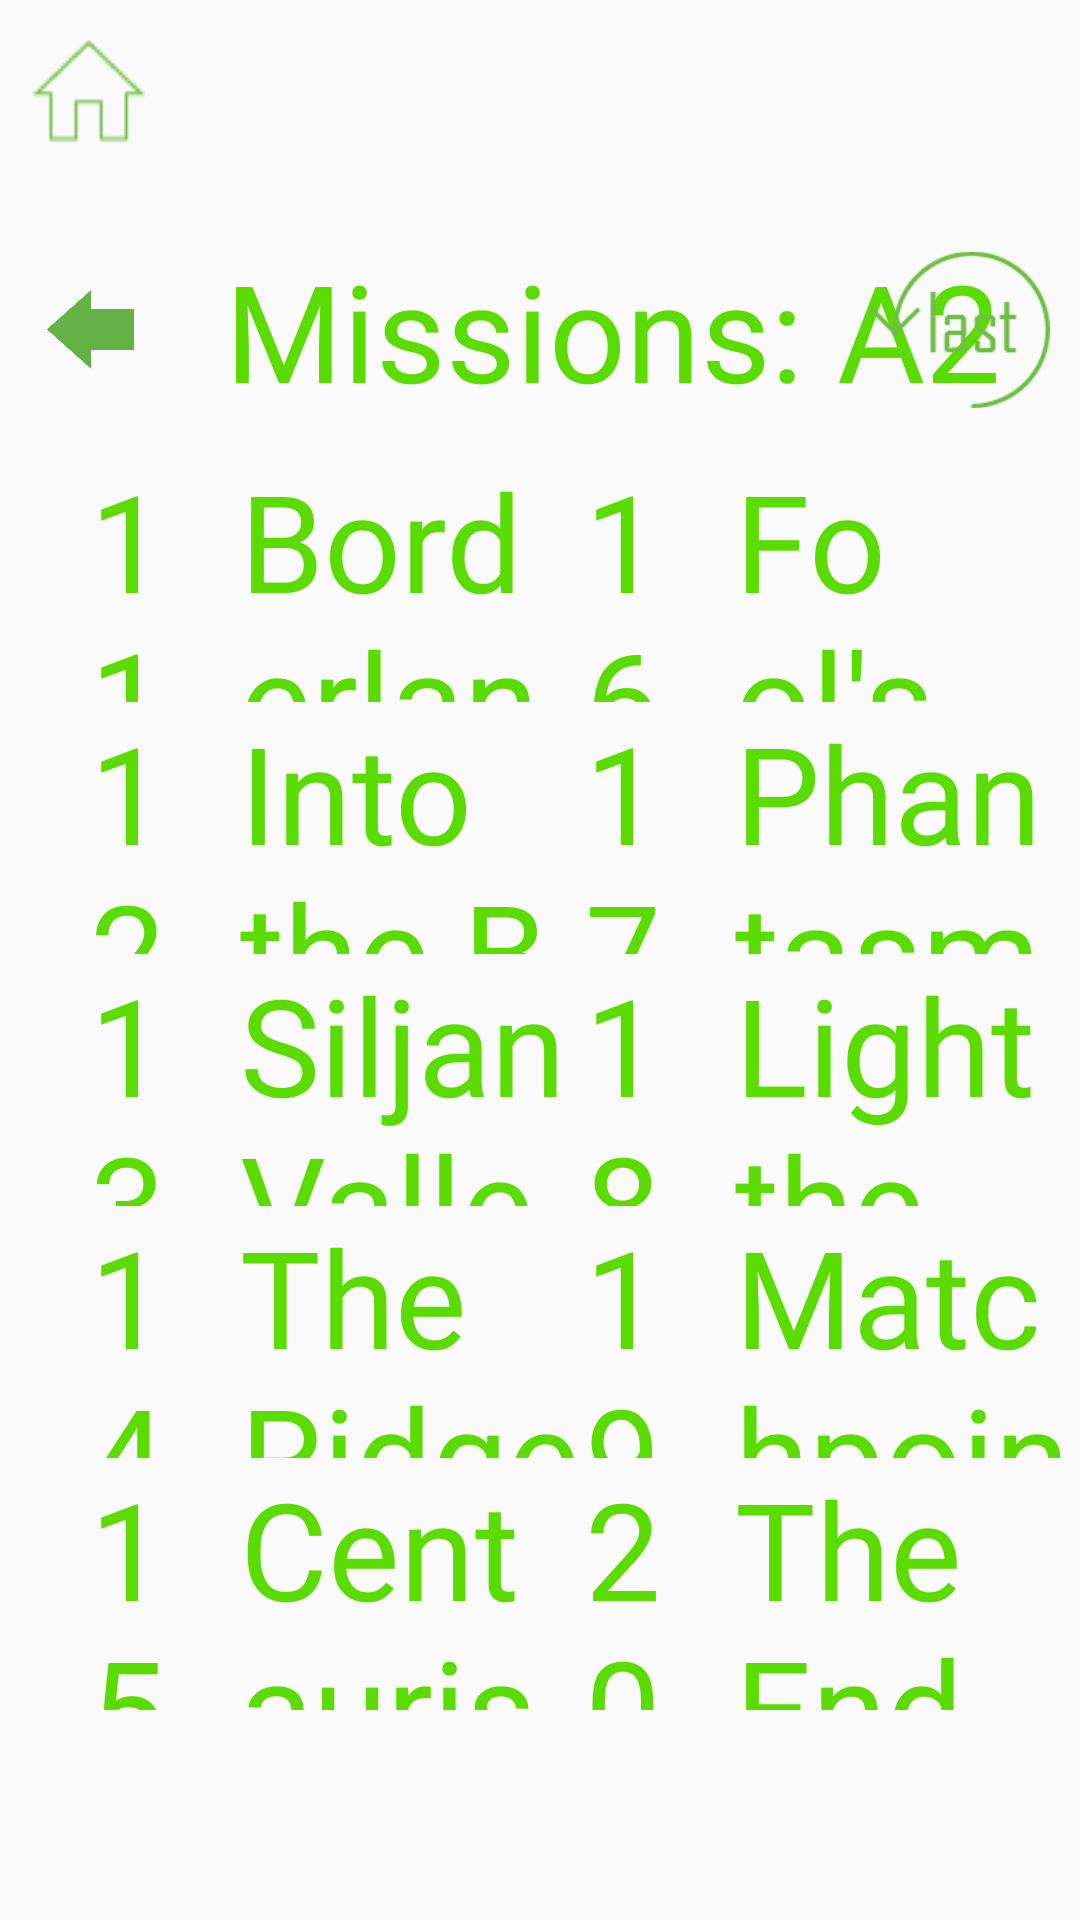

Where to tap for icons on this 1080px x 1920px app screen, as [x,y]:
home off: [88,91]
prev campaign: [90,329]
